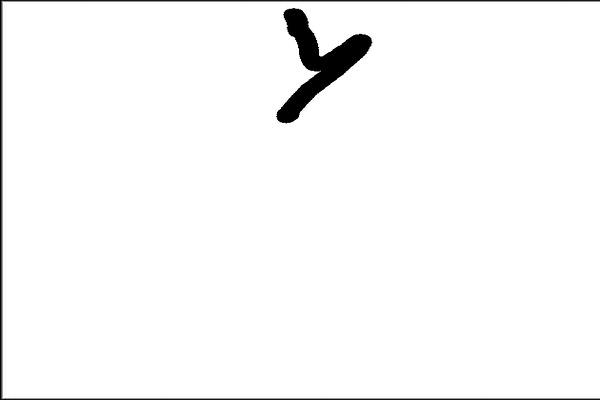Y: (264, 4, 385, 139)
